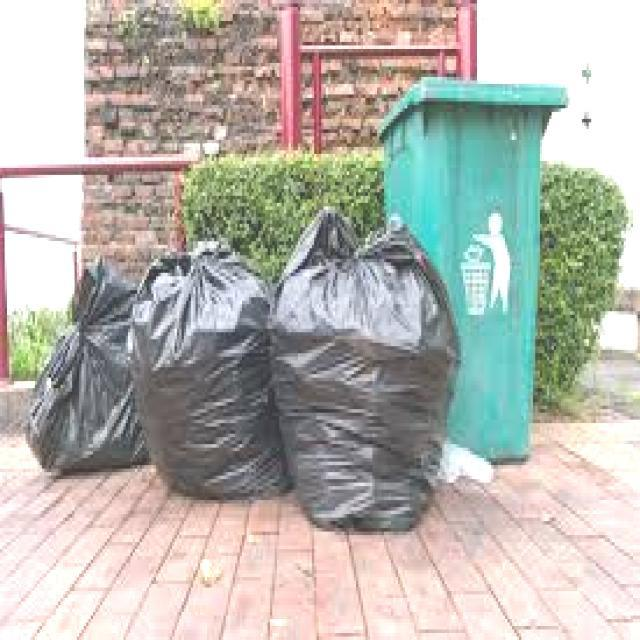high trash: (28, 210, 492, 529)
